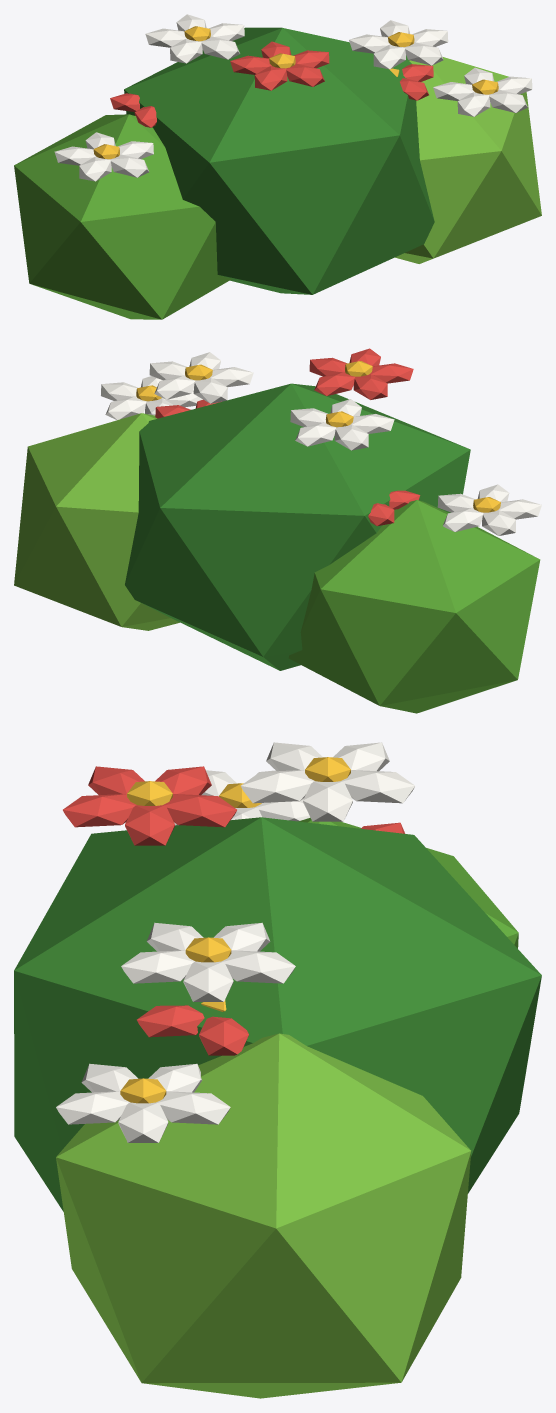
The model's file is shrub_flowering.glb.
The picture shows the model from 3 angles, top to bottom: view 1: azimuth 30°, elevation 25°; view 2: azimuth 150°, elevation 25°; view 3: azimuth 270°, elevation 25°; orthographic projection. The views are drawn at different scales.
Visible parts, largest first — view 1: shrub_flowering; view 2: shrub_flowering; view 3: shrub_flowering.
Part boxes in pixels (bbox=[...]): shrub_flowering: bbox=[14, 14, 541, 319]; shrub_flowering: bbox=[14, 348, 541, 713]; shrub_flowering: bbox=[14, 742, 541, 1398].
Size of the model in its own units: 0.9139 by 0.501 by 0.5015.
